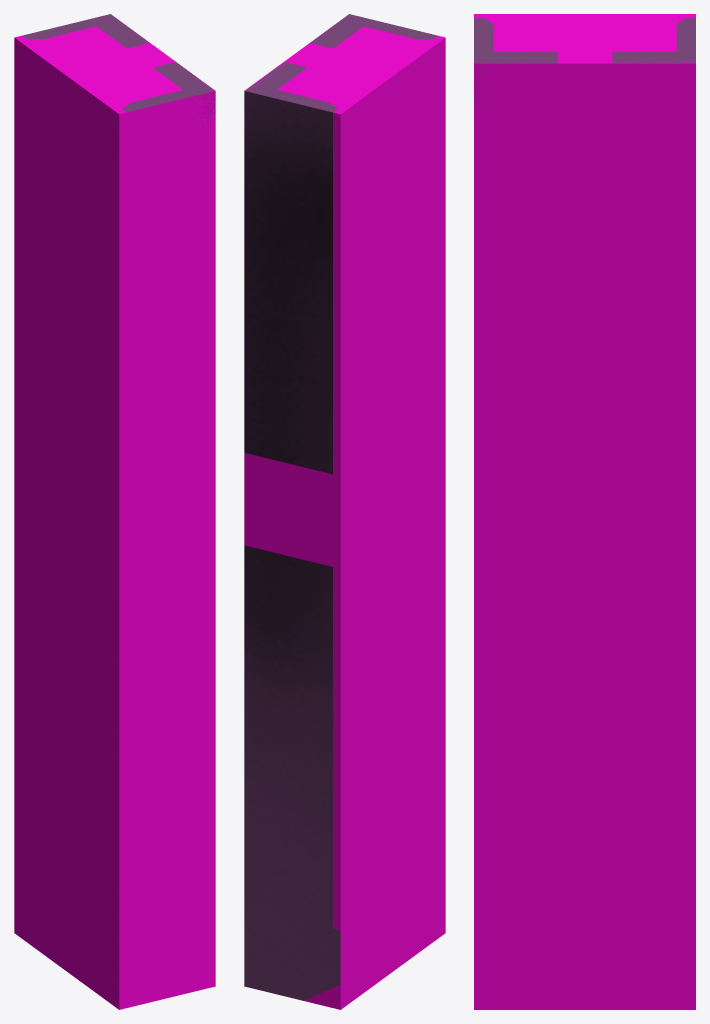
File: wallPostD.FBX
The picture shows the model from 3 angles, left to right: view 1: azimuth 30°, elevation 25°; view 2: azimuth 150°, elevation 25°; view 3: azimuth 270°, elevation 25°; orthographic projection. The views are drawn at different scales.
Parts seen in each view (by area): view 1: INVIS_OBSTACLE_barrier_low001, wallPostD; view 2: INVIS_OBSTACLE_barrier_low001, wallPostD; view 3: INVIS_OBSTACLE_barrier_low001, wallPostD.
Part boxes in pixels (left/top/right/bottom): INVIS_OBSTACLE_barrier_low001: left=14, top=26, right=215, bottom=1009; wallPostD: left=22, top=14, right=215, bottom=120; INVIS_OBSTACLE_barrier_low001: left=244, top=14, right=445, bottom=1009; wallPostD: left=244, top=14, right=437, bottom=1000; INVIS_OBSTACLE_barrier_low001: left=474, top=14, right=695, bottom=1009; wallPostD: left=474, top=18, right=695, bottom=311.
Bounding box in the file's own units: 3.71 × 32.93 × 7.
